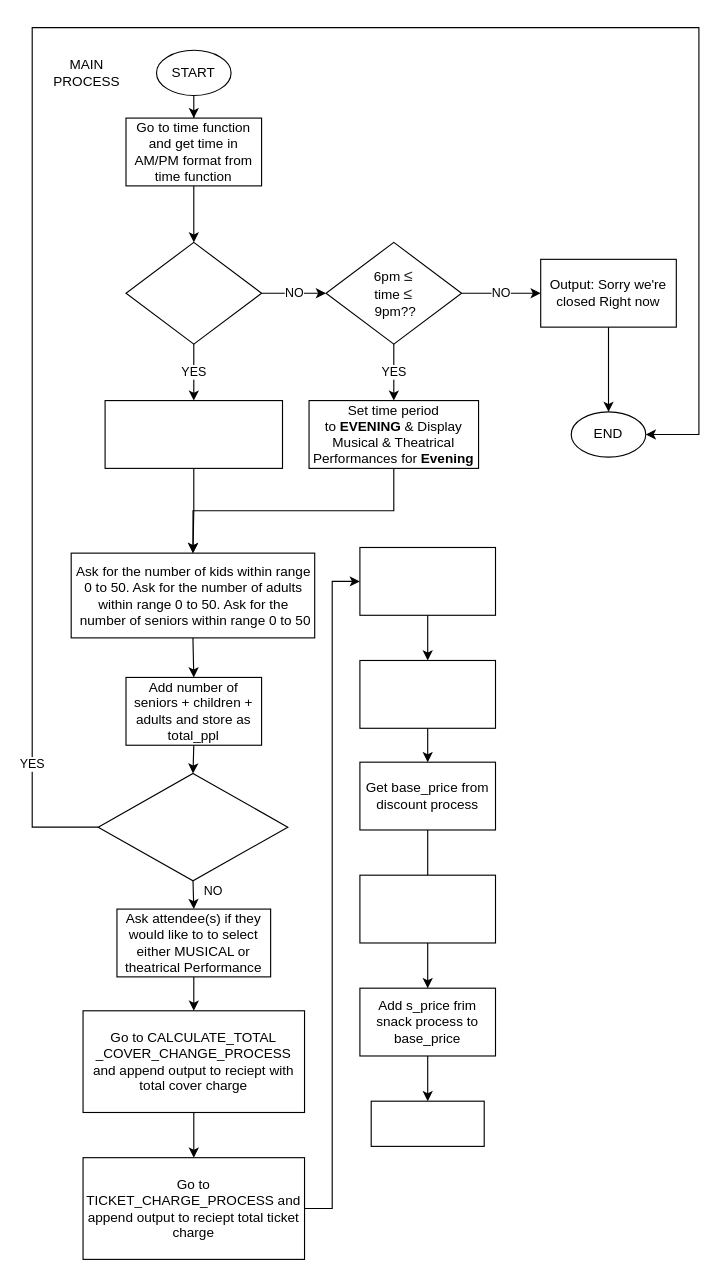
The diagram is 728 pixels wide and 1279 high, and some of its shapes have lost their labels. The shapes that lost their labels are listed below. From the top down, each one's centre as x and y in pixels, then its label:
At (193,292): "12pm ≤ time ≤ 4pm??".
At (193,433): "Set time period to MATINE & Display Musical & Theatrical Performances for MATINE".
At (427,580): "Add total_coverage and total ticket cost and store it as price_prior_d".
At (427,693): "Go to discount process".
At (192,826): "total_ppl not equal to 0??".
At (427,908): "Go to snack process".
At (427,1123): "Go to valet process".
